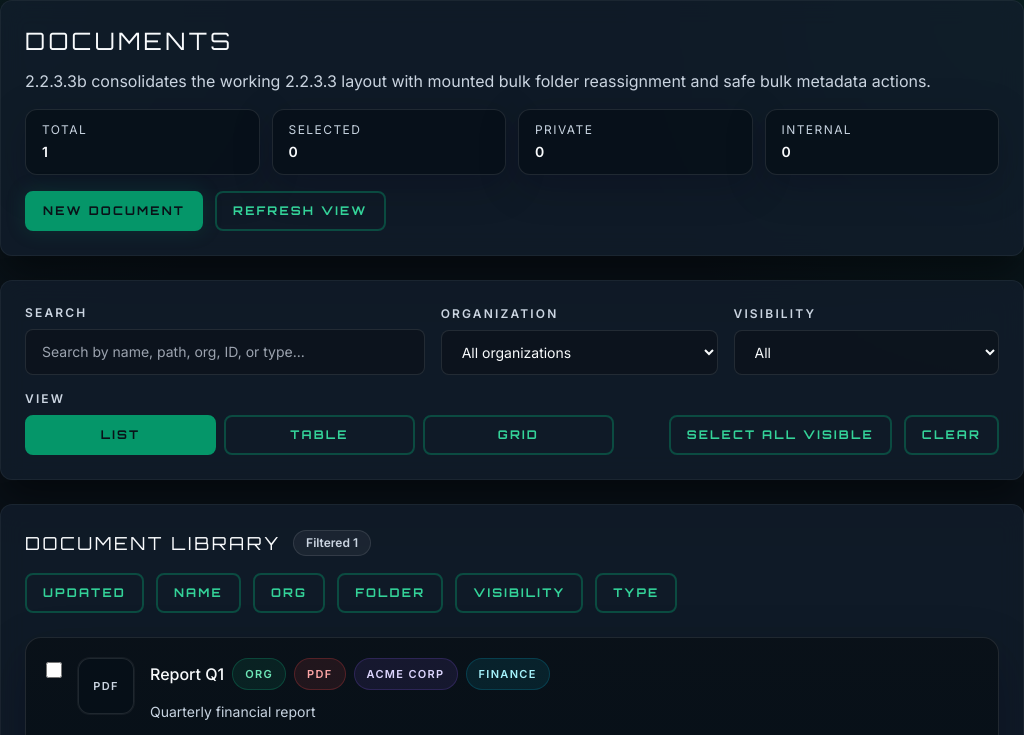
Test: AdminDocumentsCenterClient › view mode switching › switches to table view
Click the button "Table": [320, 435] box [224,415,415,455]
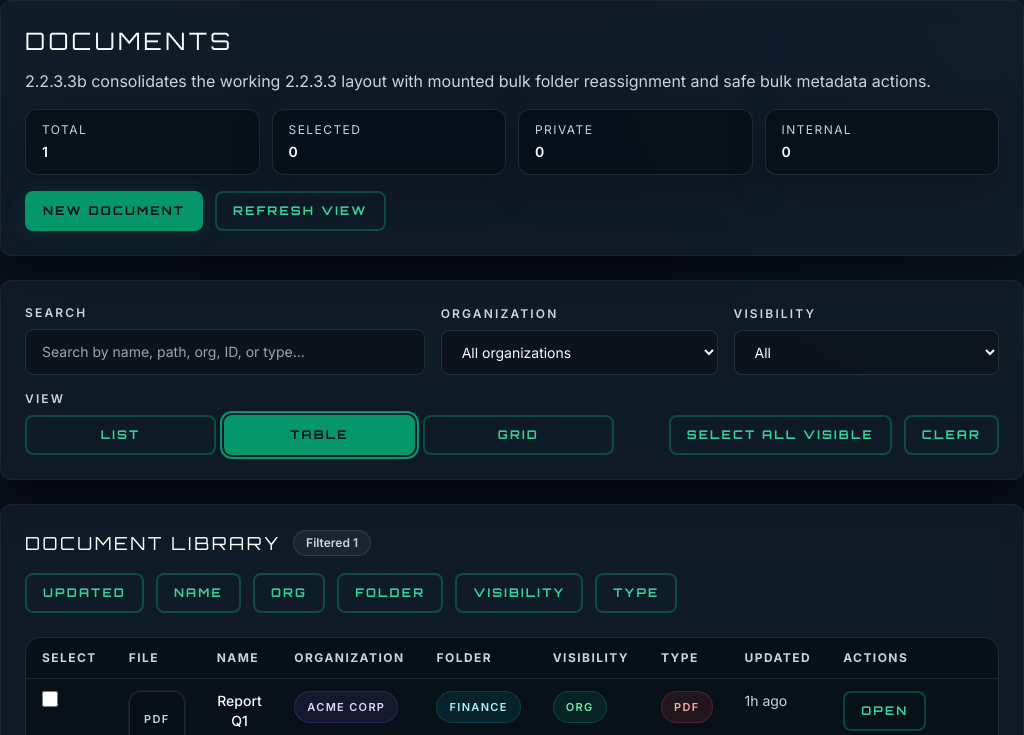
Expected: the column heading "File" is shown, [113,638,201,678]
Expected: the column heading "Select" is shown, [26,638,113,678]
